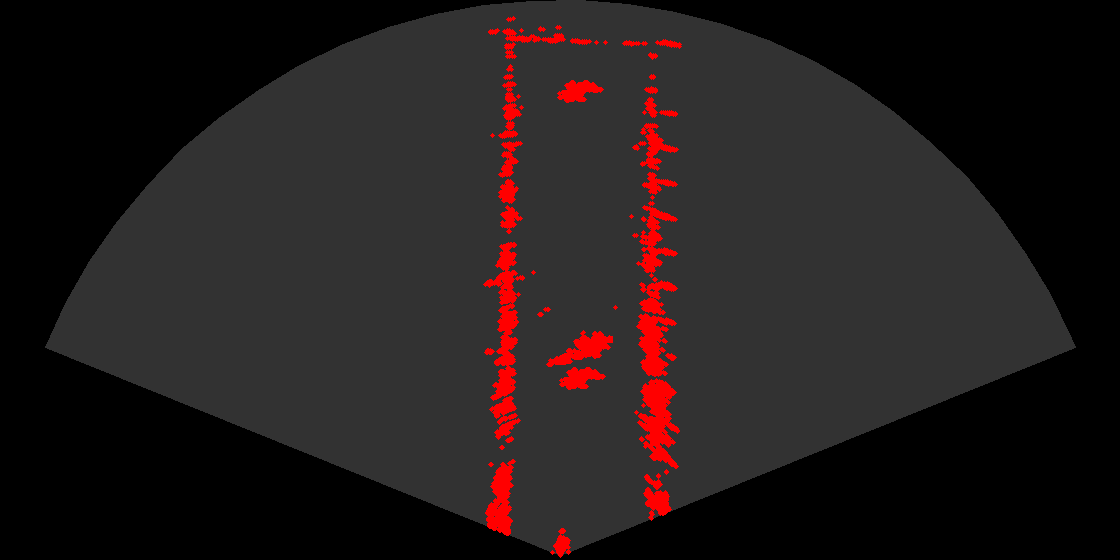AUV: (551, 78, 607, 110), (553, 365, 609, 397)
frogman: (545, 324, 613, 371)
